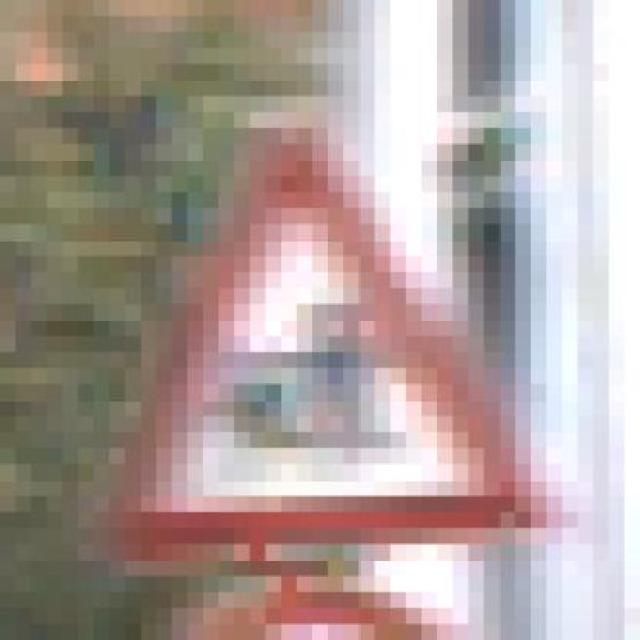Beware of children: (108, 96, 578, 576)
